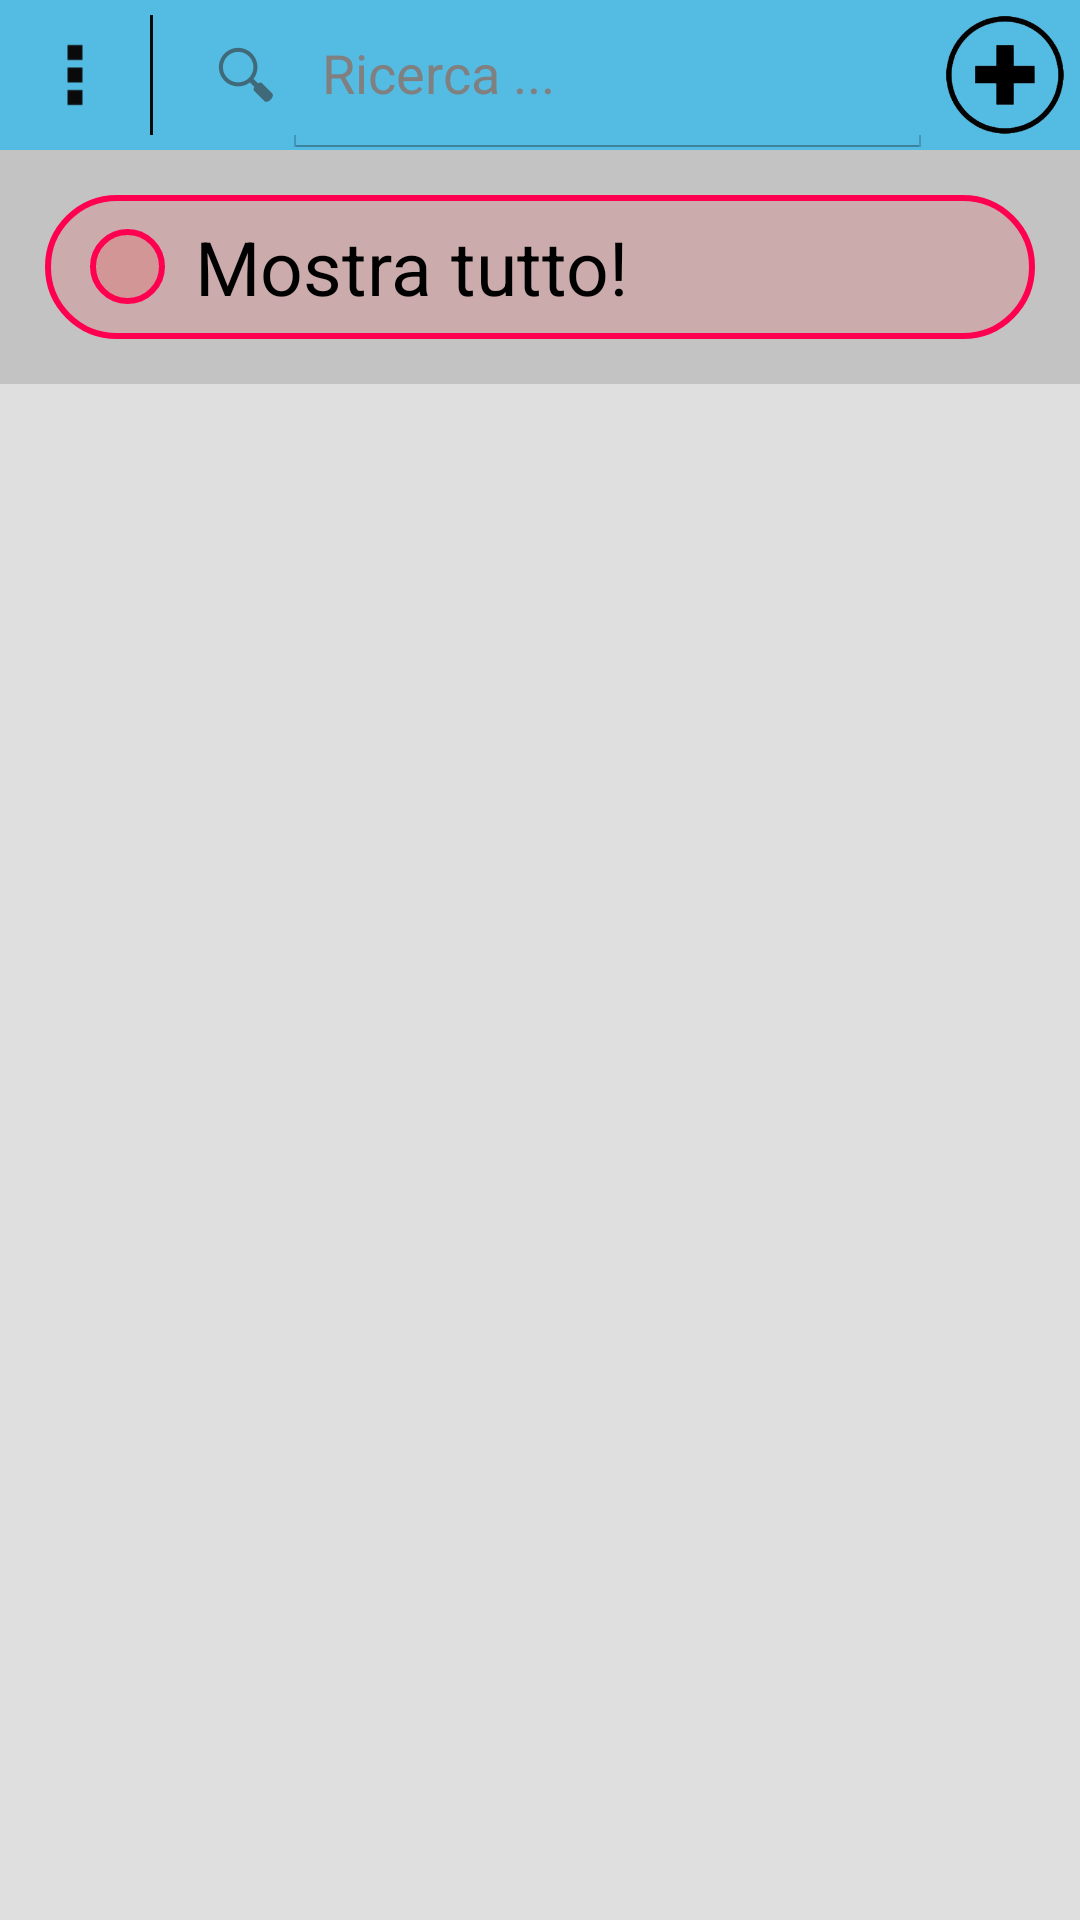

Named icons in this screenshot (1080×1920) and their centers, (x=x, y=y):
aggiungi: (x=1005, y=75)
setting: (x=75, y=75)
